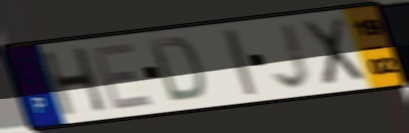D: (146, 35, 208, 105)
E: (89, 39, 157, 112)
H: (40, 44, 110, 119)
I: (220, 26, 260, 98)
J: (270, 21, 314, 91)
X: (299, 14, 368, 89)
